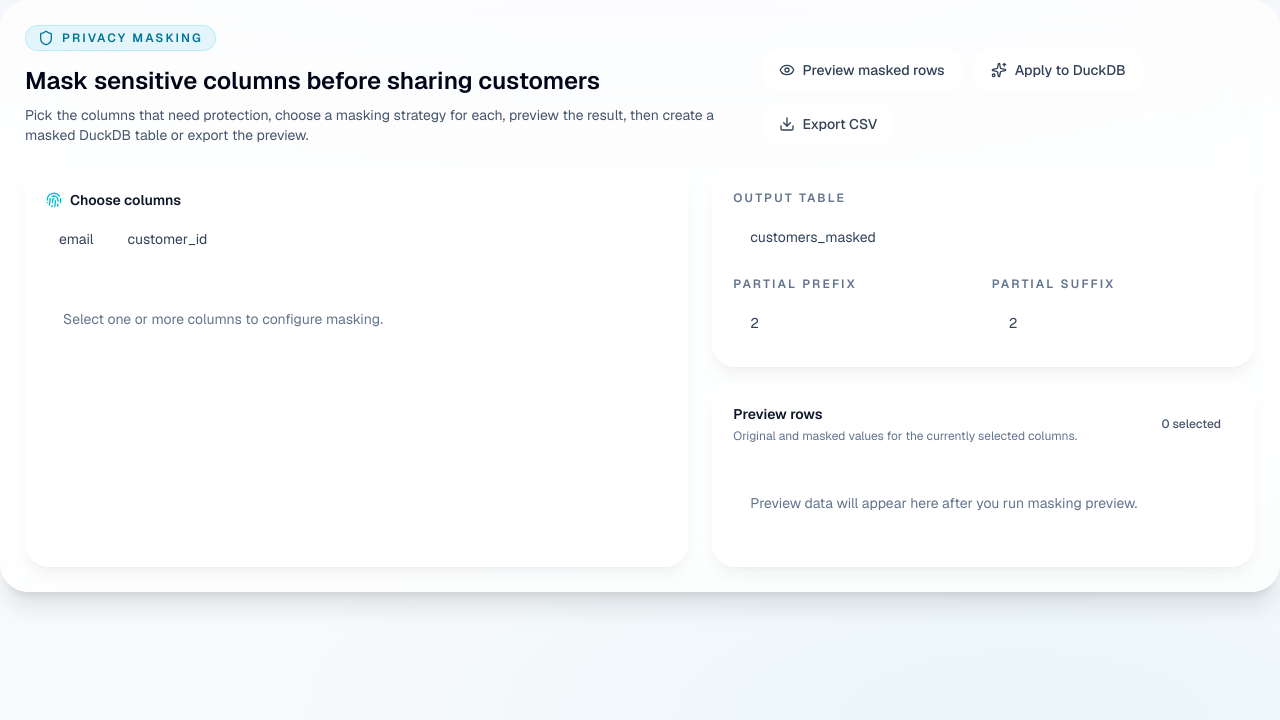
Test case: DataMaskingTool › previews masked rows for the selected column
The width and height of the screenshot is (1280, 720).
Click the button "email": coordinates (76, 239) left=46, top=222, right=106, bottom=256
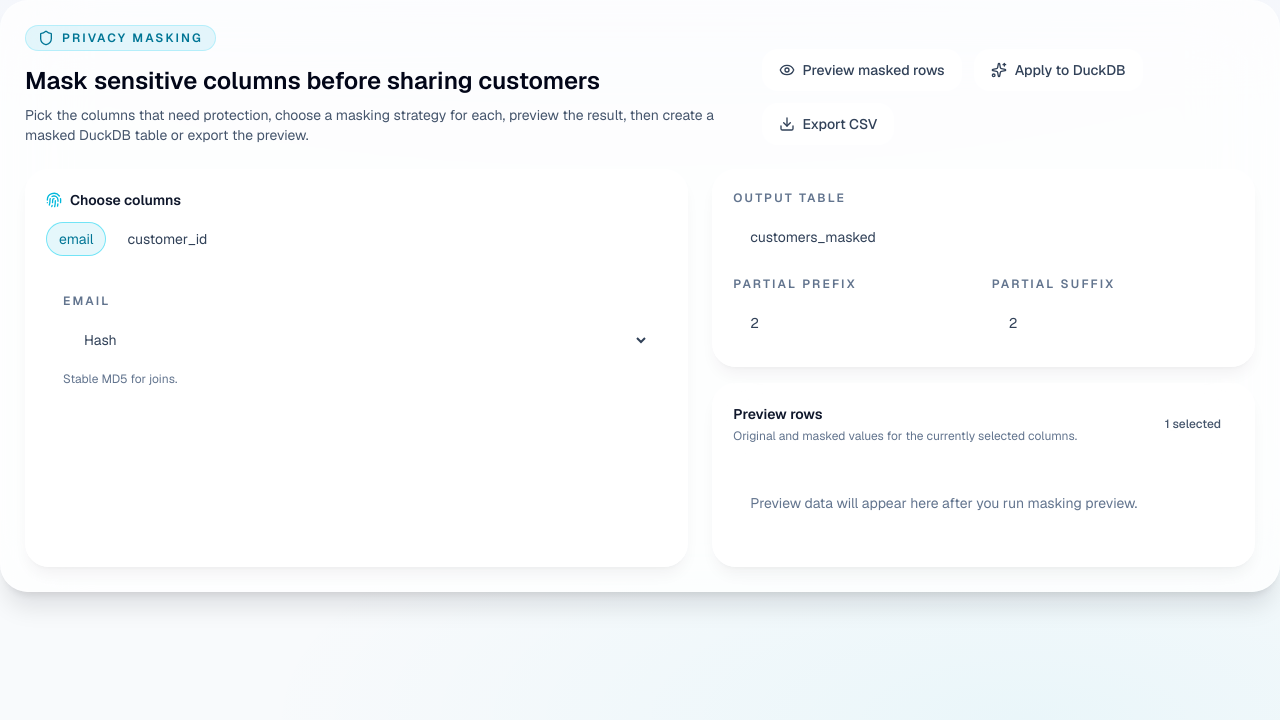
Click the button "Preview masked rows": coordinates (862, 70) left=762, top=49, right=962, bottom=91
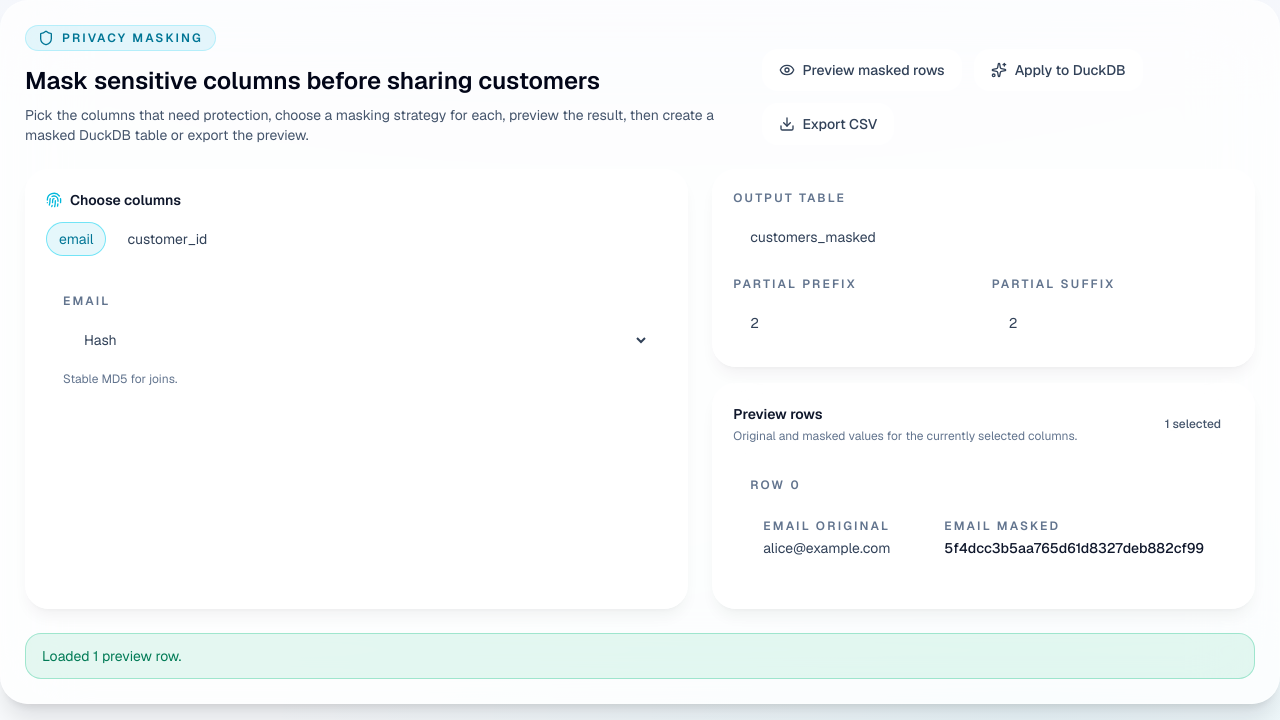
Expected: the text "alice@example.com" is shown, left=763, top=539, right=890, bottom=557
Expected: the text "5f4dcc3b5aa765d61d8327deb882cf99" is shown, left=944, top=538, right=1204, bottom=558
